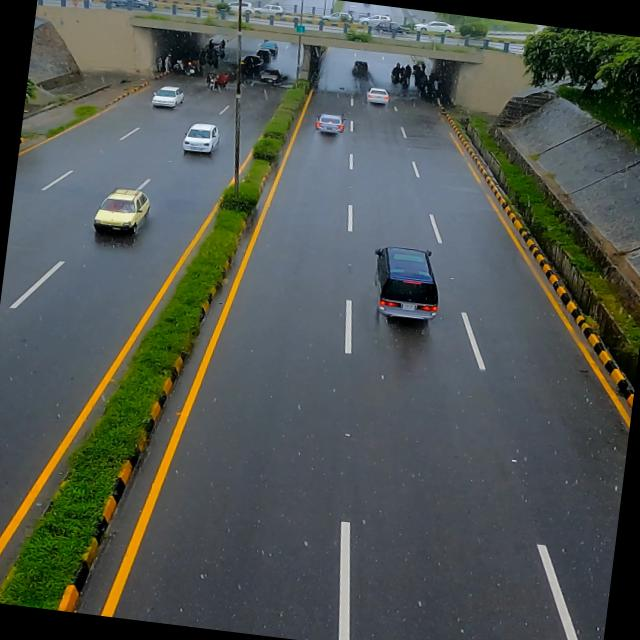Vehicle: (357, 240, 447, 330), (86, 182, 150, 248), (176, 119, 222, 161), (148, 76, 190, 117)
